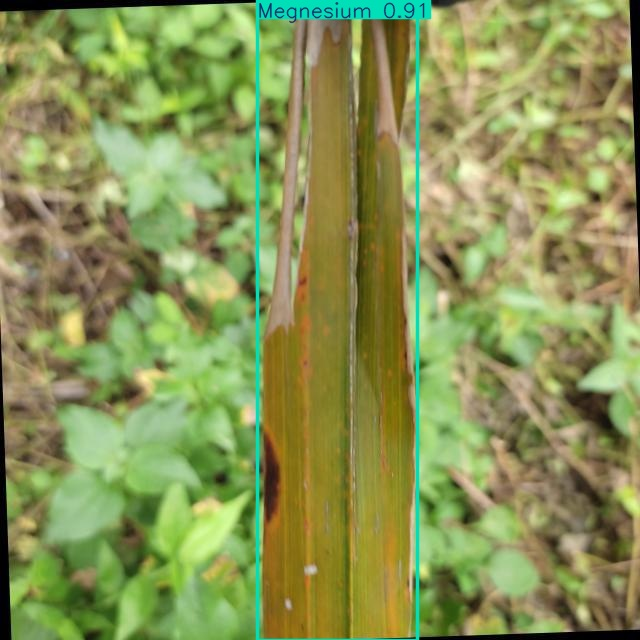Megnesium: (258, 1, 417, 640)
